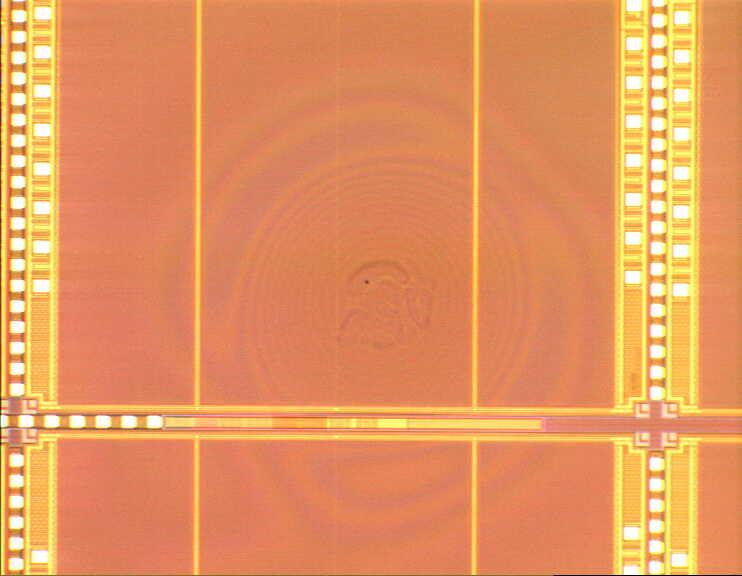PIQ PARTICLE: (327, 258, 438, 362)
